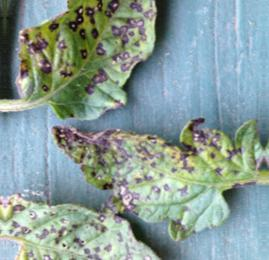Tomato Septoria leaf spot: (40, 116, 265, 234), (17, 0, 172, 116), (5, 191, 184, 260)
